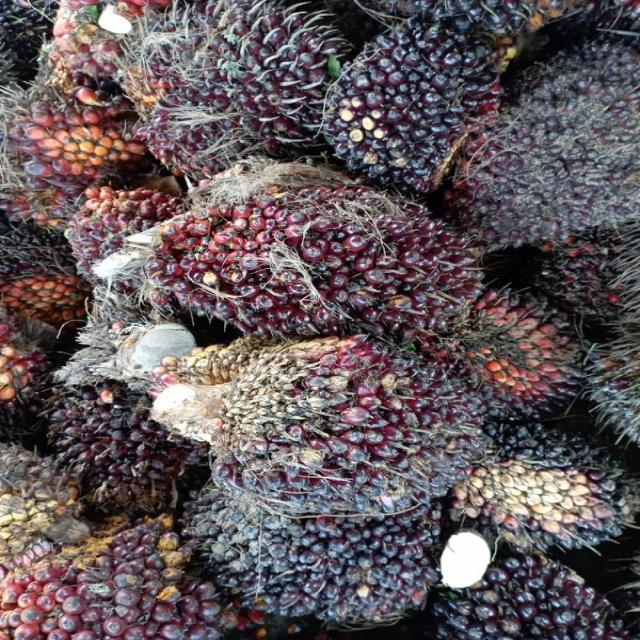fraksi 00: (119, 2, 341, 175), (458, 40, 640, 250), (317, 14, 501, 198), (192, 501, 443, 623), (462, 432, 632, 566)
fraksi 1: (155, 181, 483, 332), (203, 338, 492, 502), (447, 284, 585, 418)
fraksi 3: (0, 522, 235, 640), (0, 80, 134, 196)
